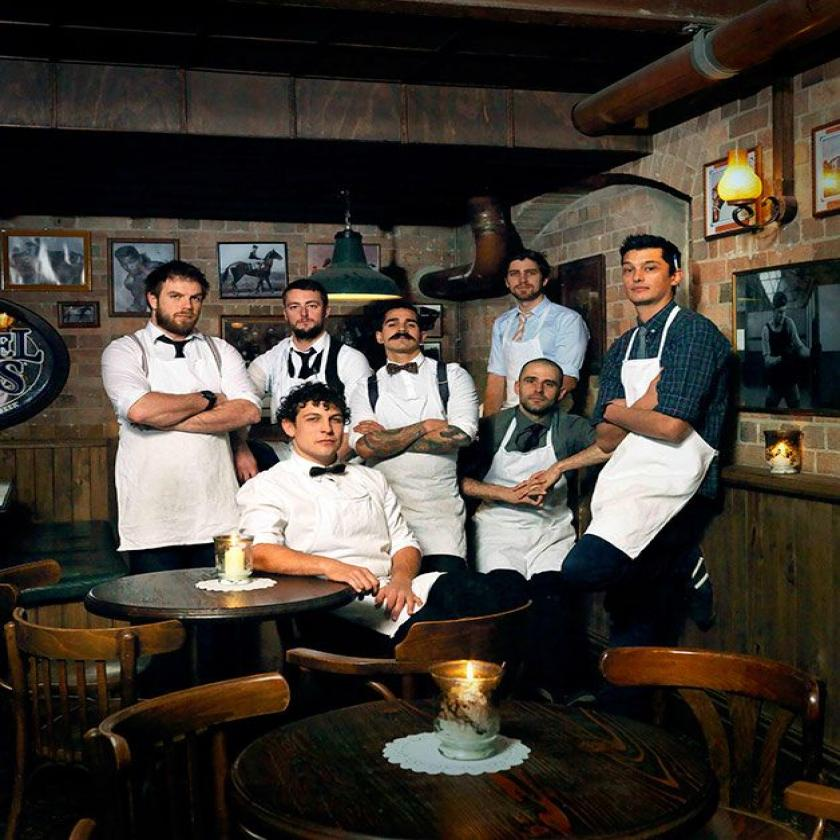Sin_casco: (600, 214, 720, 322), (130, 245, 233, 347), (263, 360, 356, 468), (507, 348, 575, 434), (366, 293, 438, 365), (495, 237, 552, 304), (274, 272, 330, 336)
